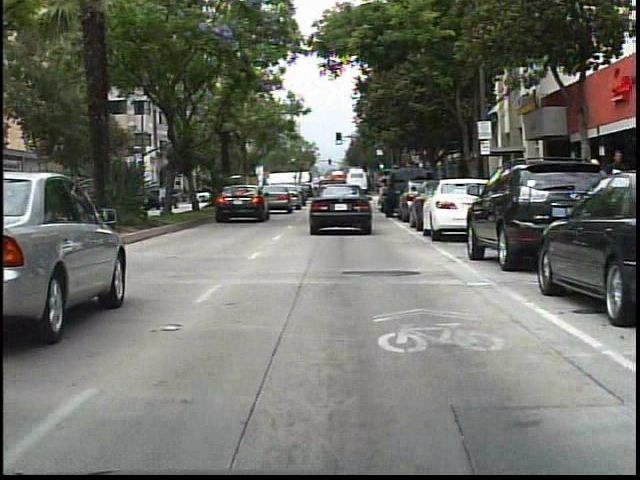person: (604, 148, 632, 228), (574, 154, 602, 224)
